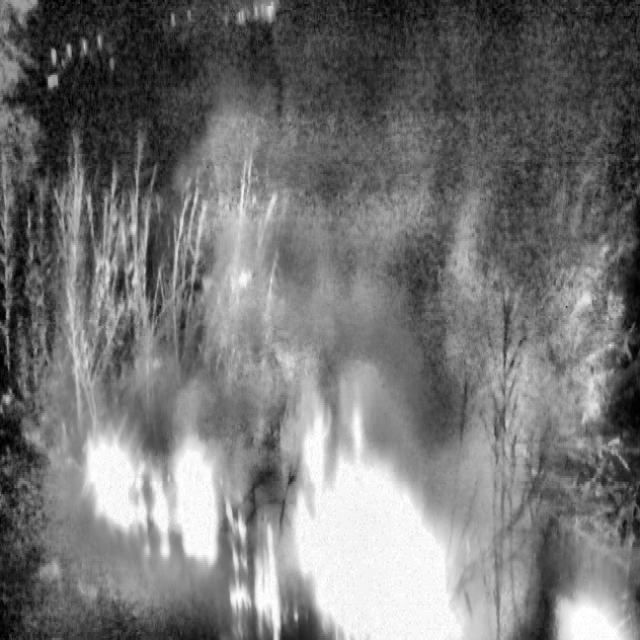fire: (56, 289, 624, 640)
